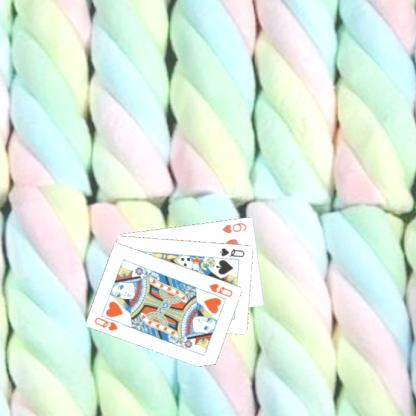6H: (219, 219, 249, 234)
QH: (92, 312, 124, 332), (206, 280, 235, 298)
QS: (217, 245, 246, 258)
